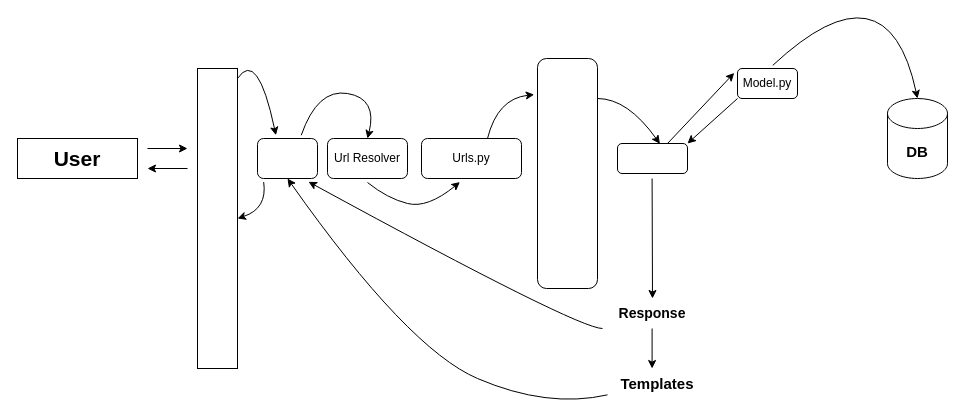
This 965x417 diagram has some shape labels left out. Here are the shapes that lost their labels. From the top down, the centre of each, then its label:
At (x=287, y=158): "Django".
At (x=567, y=173): "Urls.py Urls.py Urls.py".
At (x=652, y=158): "views.py".
